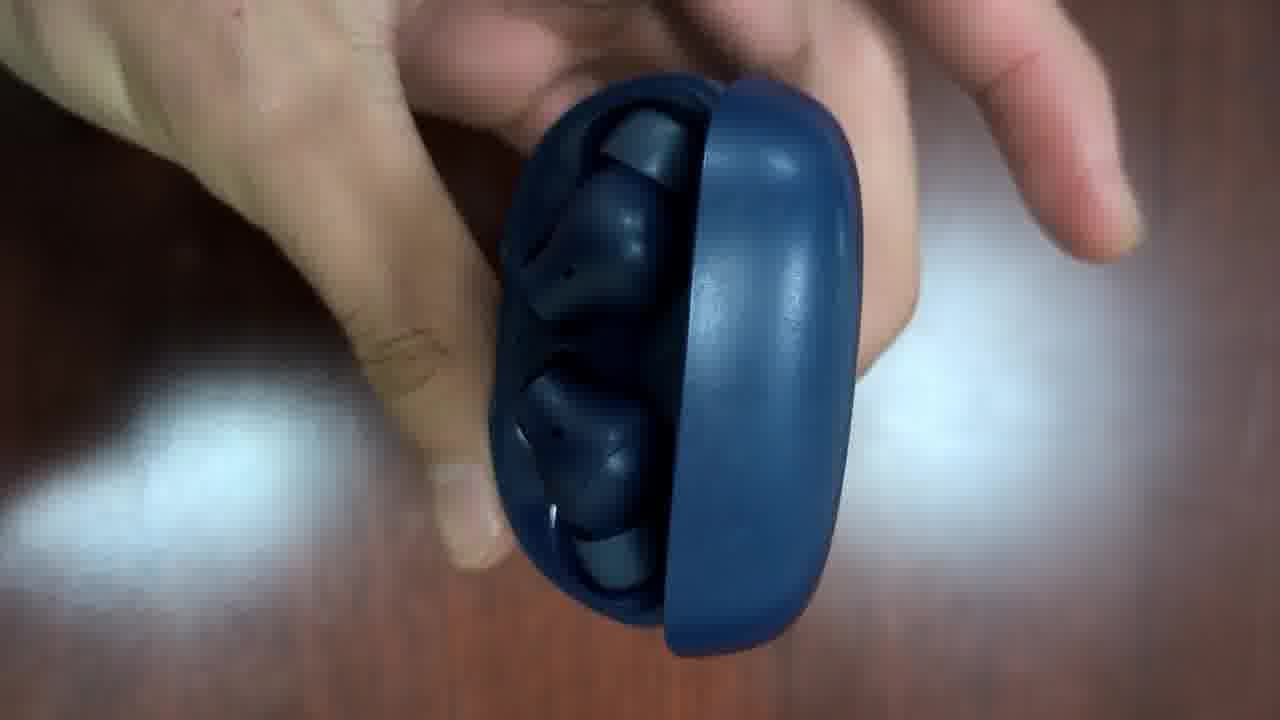Earbud: (521, 109, 692, 322), (516, 366, 667, 589)
